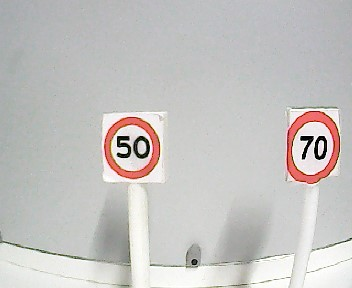50-bord: (103, 117, 163, 179)
70-bord: (284, 110, 341, 185)
